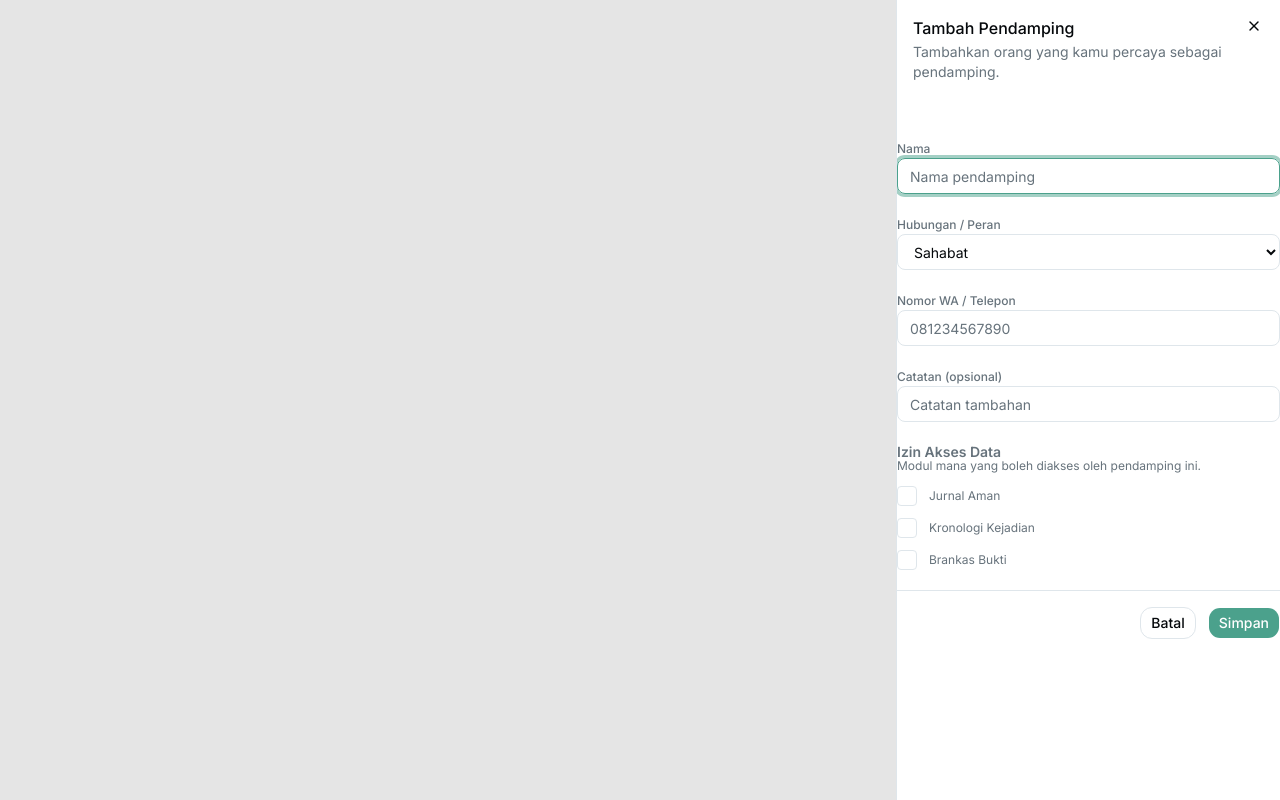
Test case: CompanionSheet › shows validation error when phone is too short
The image size is (1280, 800).
Type "Ayu Rahma" into the field labelled "Nama" at (1088, 176), box top-left (897, 158), bottom-right (1279, 194)
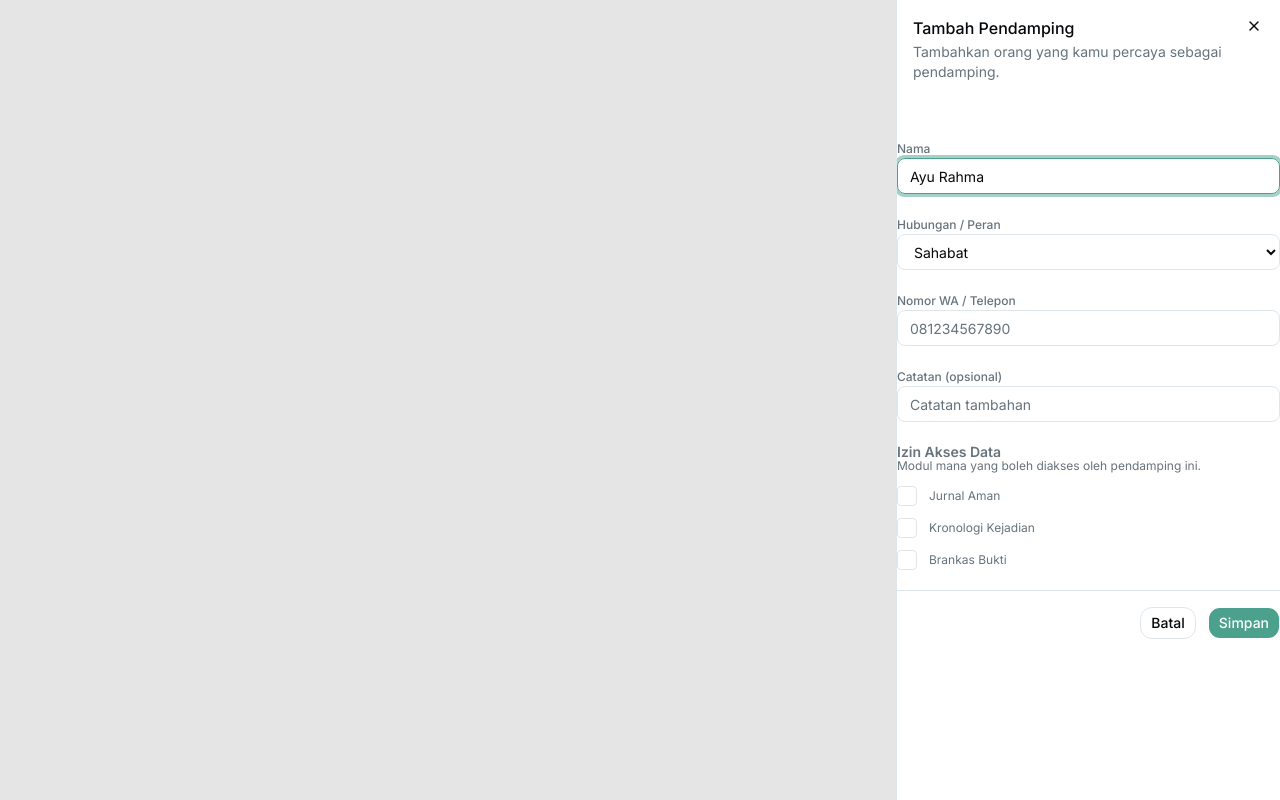
Type "123" into the field labelled "Nomor WA / Telepon" at (1088, 328), box top-left (897, 310), bottom-right (1279, 346)
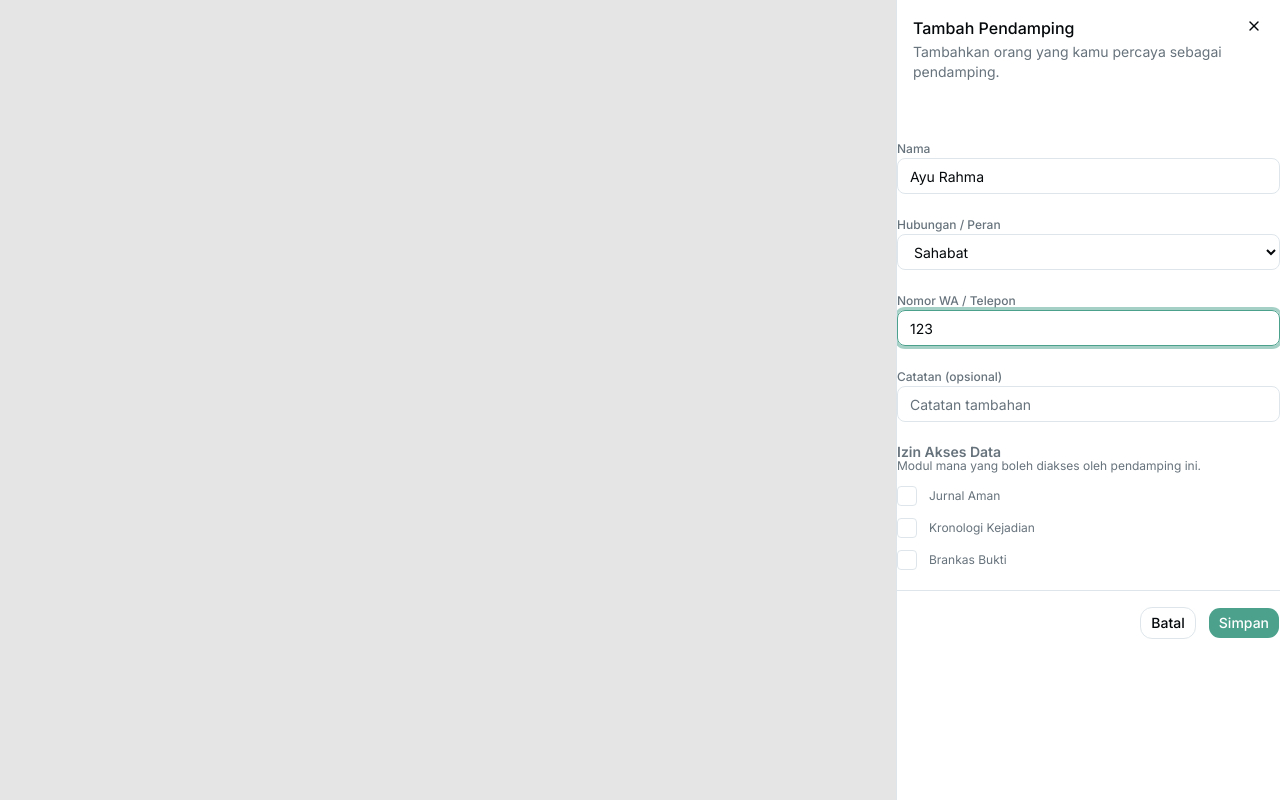
Click the button "Simpan" at (1244, 623), box top-left (1208, 607), bottom-right (1279, 639)
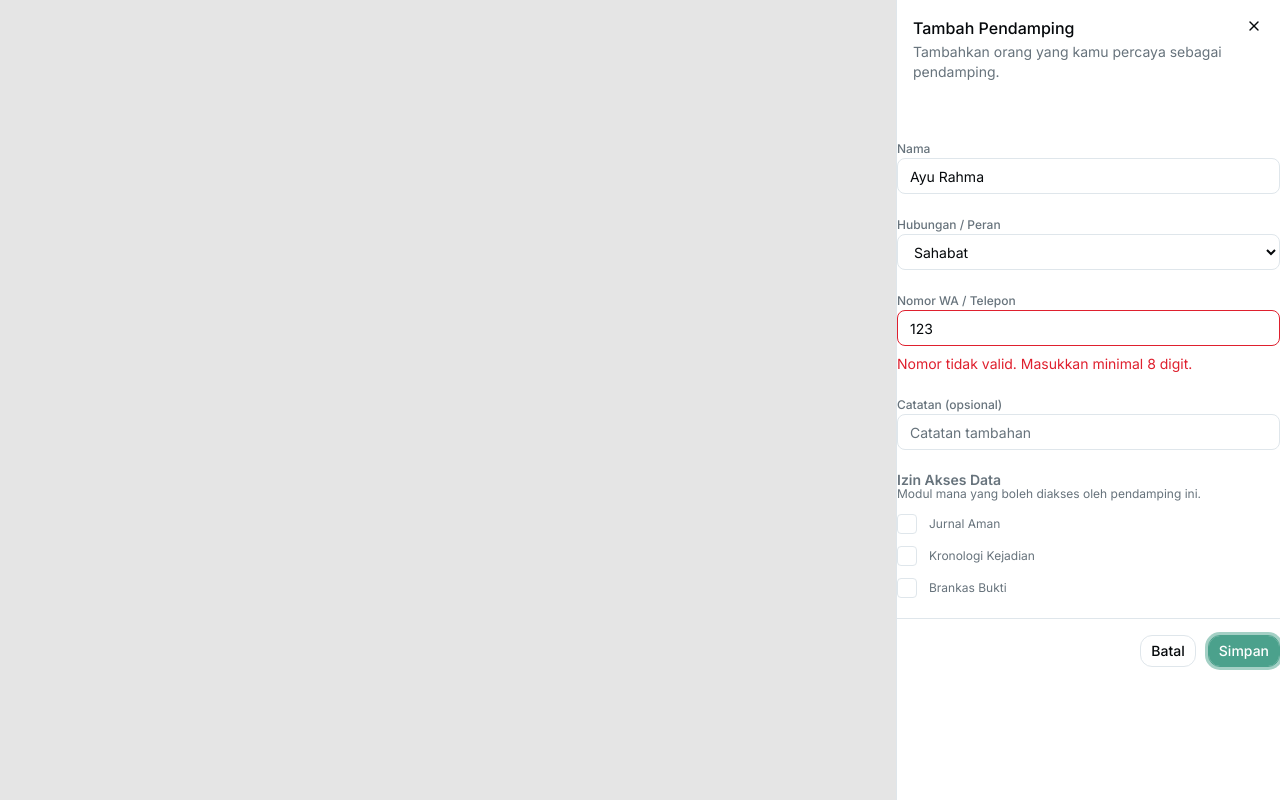
Expected: the text "Nomor tidak valid. Masukkan minimal 8 digit." is shown, top-left (897, 355), bottom-right (1192, 372)
